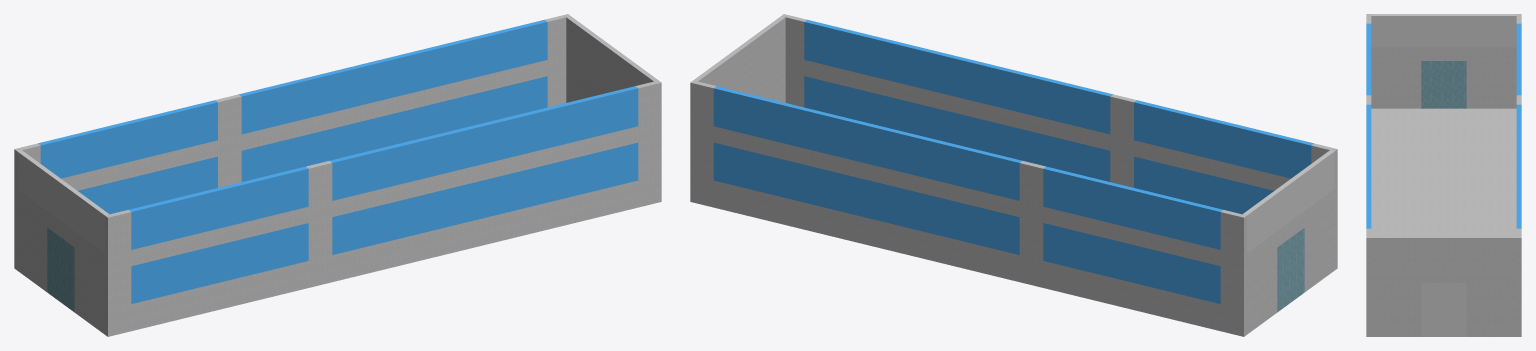
File: Warehouse_expansion.glb
3 renders of one model, left to right at view 1: azimuth 30°, elevation 25°; view 2: azimuth 150°, elevation 25°; view 3: azimuth 270°, elevation 25°, orthographic. The views are drawn at different scales.
Parts seen in each view (by area): view 1: Floor1; view 2: Floor1; view 3: Floor1.
Boxes of the visible parts, <box> form: Floor1: <box>14,14,661,336</box>; Floor1: <box>690,14,1337,336</box>; Floor1: <box>1366,14,1521,336</box>.
Size of the model in its own units: 32.08 by 6.6 by 9.41.
Materials: 3 (3 with a texture image).
